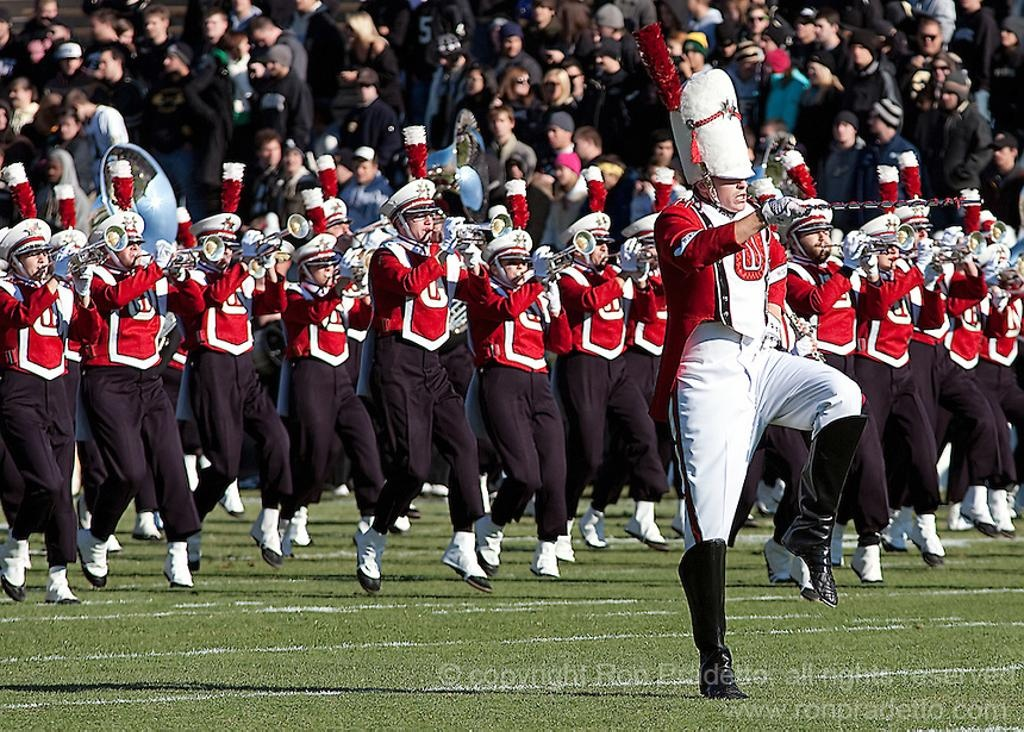human_face: (707, 166, 747, 210), (798, 222, 830, 260), (403, 206, 433, 242), (18, 248, 48, 278), (496, 256, 526, 284), (870, 236, 898, 266), (580, 239, 608, 267), (115, 237, 139, 265), (308, 259, 332, 285), (210, 238, 232, 266), (917, 25, 939, 53), (562, 66, 582, 96), (328, 220, 350, 244), (489, 112, 509, 136), (544, 122, 562, 148), (465, 69, 483, 95), (806, 58, 824, 84), (850, 39, 870, 62), (260, 142, 280, 164), (832, 118, 852, 140), (991, 143, 1011, 165), (352, 160, 370, 184), (654, 140, 672, 164), (739, 54, 757, 78), (758, 128, 776, 152), (544, 74, 560, 99), (814, 16, 830, 41), (58, 116, 76, 138), (747, 10, 765, 32), (940, 88, 958, 110), (867, 108, 883, 132), (932, 59, 948, 83), (758, 34, 774, 58), (98, 53, 112, 79), (38, 2, 56, 22), (202, 16, 220, 36), (251, 28, 271, 46), (512, 74, 530, 94), (503, 37, 521, 57), (90, 19, 106, 41), (911, 224, 927, 246), (47, 24, 63, 46), (283, 151, 301, 170), (144, 15, 160, 36), (60, 56, 78, 74), (544, 49, 562, 67), (346, 22, 364, 40), (596, 20, 612, 40), (794, 18, 810, 38), (1000, 25, 1016, 45), (8, 84, 22, 106), (574, 138, 588, 160), (26, 42, 40, 64), (45, 161, 59, 182), (554, 164, 568, 185), (596, 53, 612, 71), (533, 2, 549, 20), (163, 52, 177, 72), (266, 56, 280, 76), (357, 80, 371, 100), (684, 47, 698, 67), (660, 6, 674, 26), (665, 41, 679, 59), (238, 36, 250, 56), (118, 30, 132, 46)
